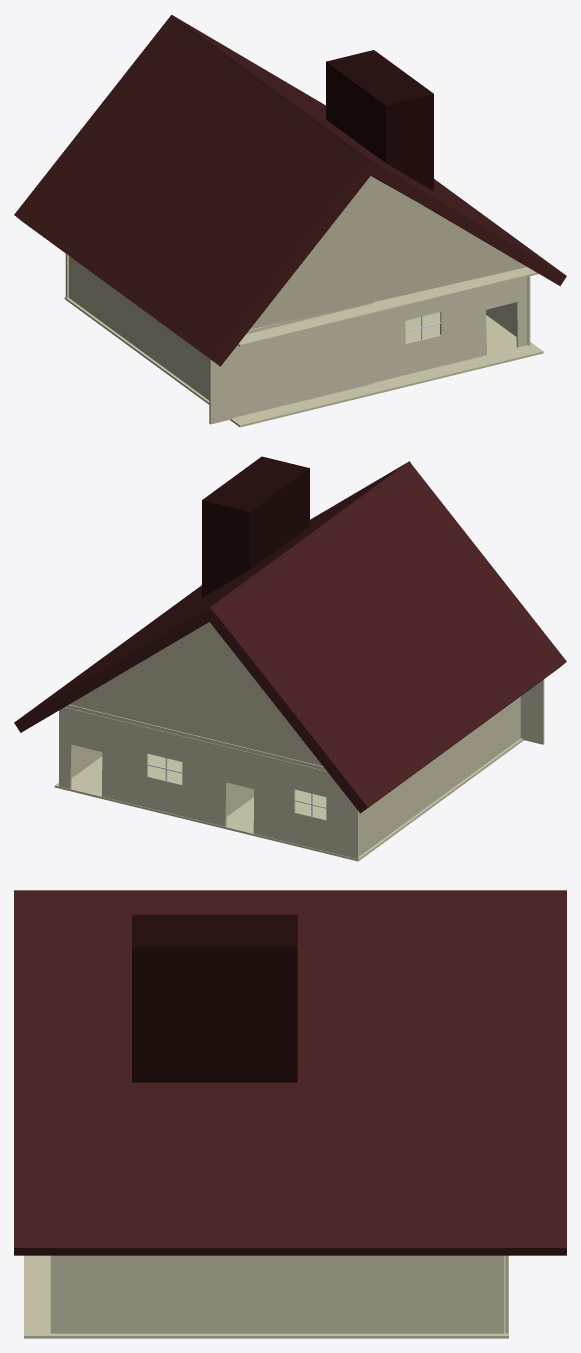
The model's file is house.fbx.
3 renders of one model, top to bottom at view 1: azimuth 30°, elevation 25°; view 2: azimuth 150°, elevation 25°; view 3: azimuth 270°, elevation 25°, orthographic. The views are drawn at different scales.
Parts seen in each view (by area): view 1: pCube18; view 2: pCube18; view 3: pCube18.
Boxes of the visible parts, <box> form: pCube18: <box>14,14,566,427</box>; pCube18: <box>14,456,566,861</box>; pCube18: <box>14,890,566,1338</box>.
Size of the model in its own units: 25.51 by 17.14 by 24.98.
